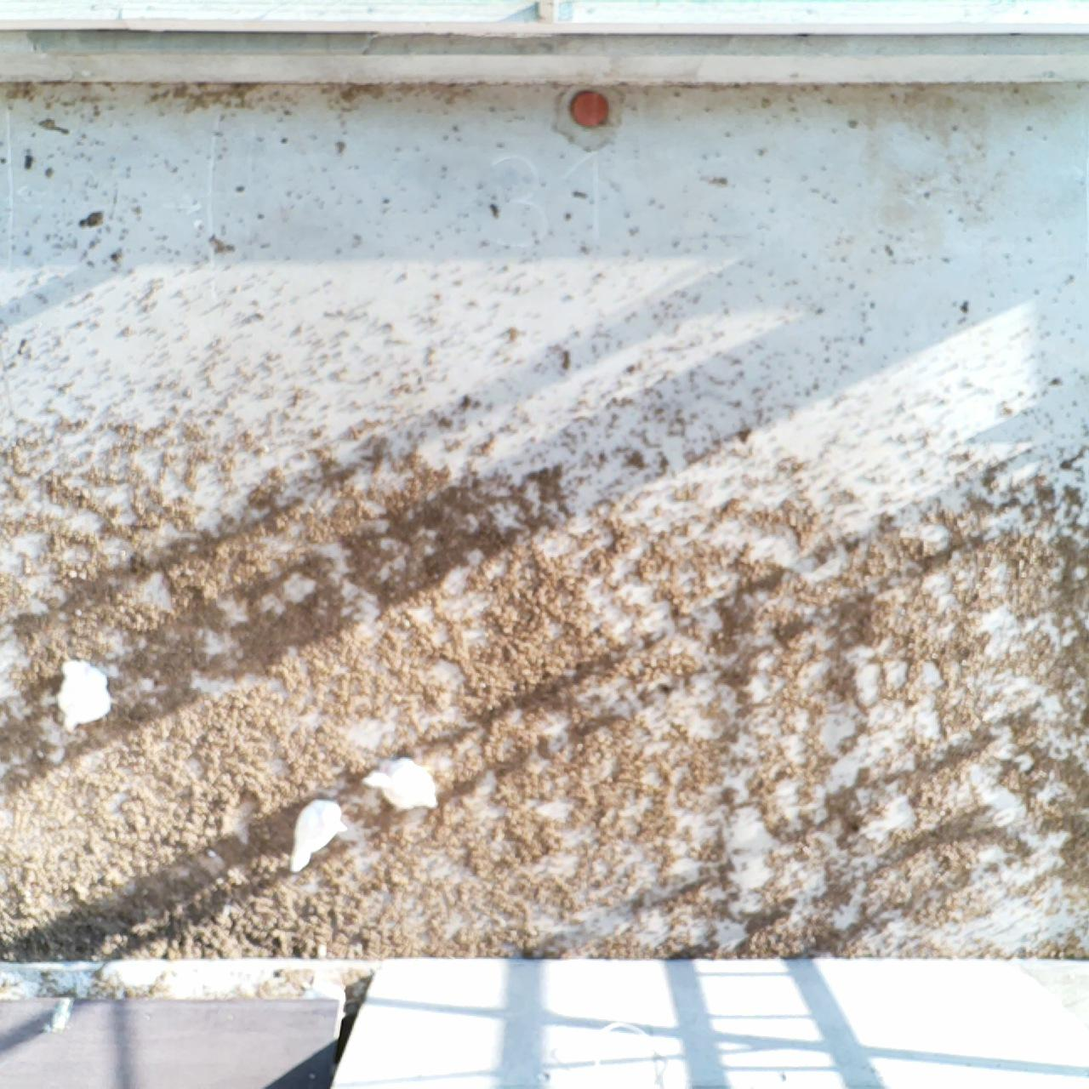chicken: (50, 651, 120, 737), (280, 795, 353, 877), (358, 751, 443, 816)
